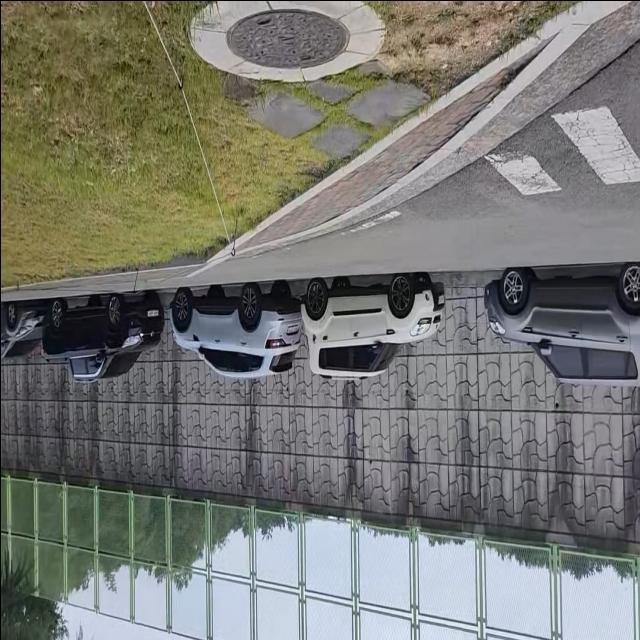obstacle: (162, 273, 451, 393), (470, 261, 640, 401), (0, 294, 165, 383)
road: (178, 4, 640, 284)
sidewalk: (232, 41, 546, 246)
